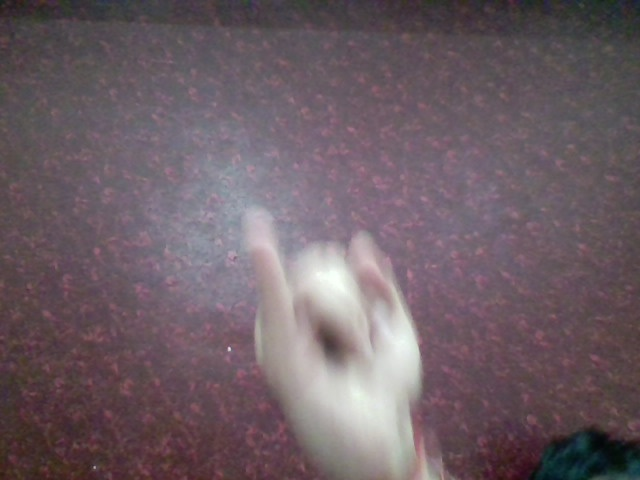j: (221, 200, 446, 453)
